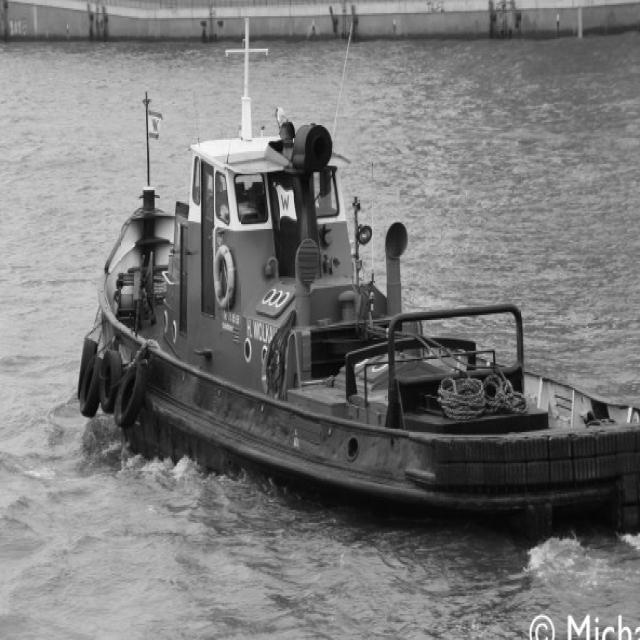tugboat: (74, 41, 640, 543)
